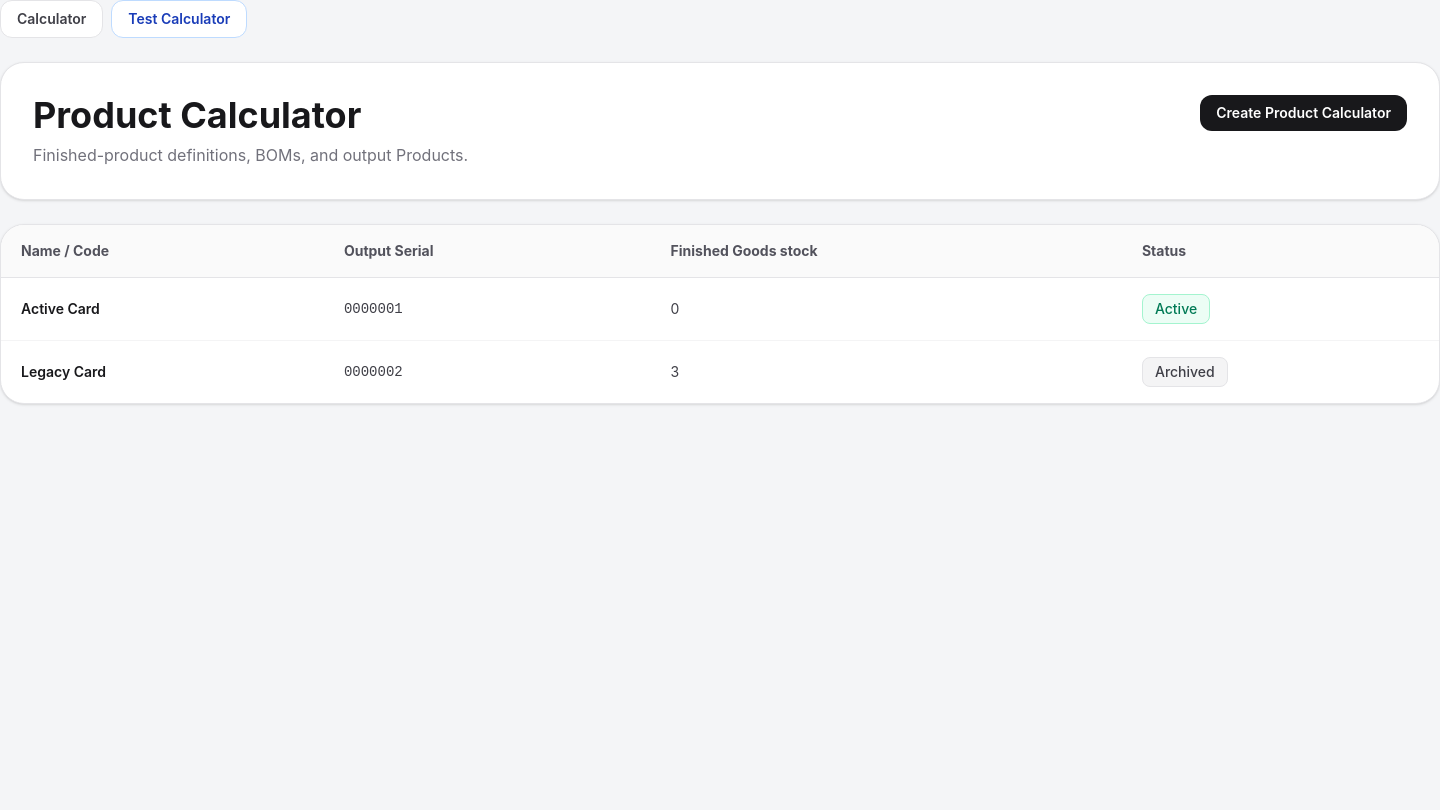
PCB list and creation › validates name and exact three-digit Serial, preserving leading zeroes
The width and height of the screenshot is (1440, 810).
Click the button "Create Product Calculator".
click(1304, 113)  # box [1200,95,1407,131]
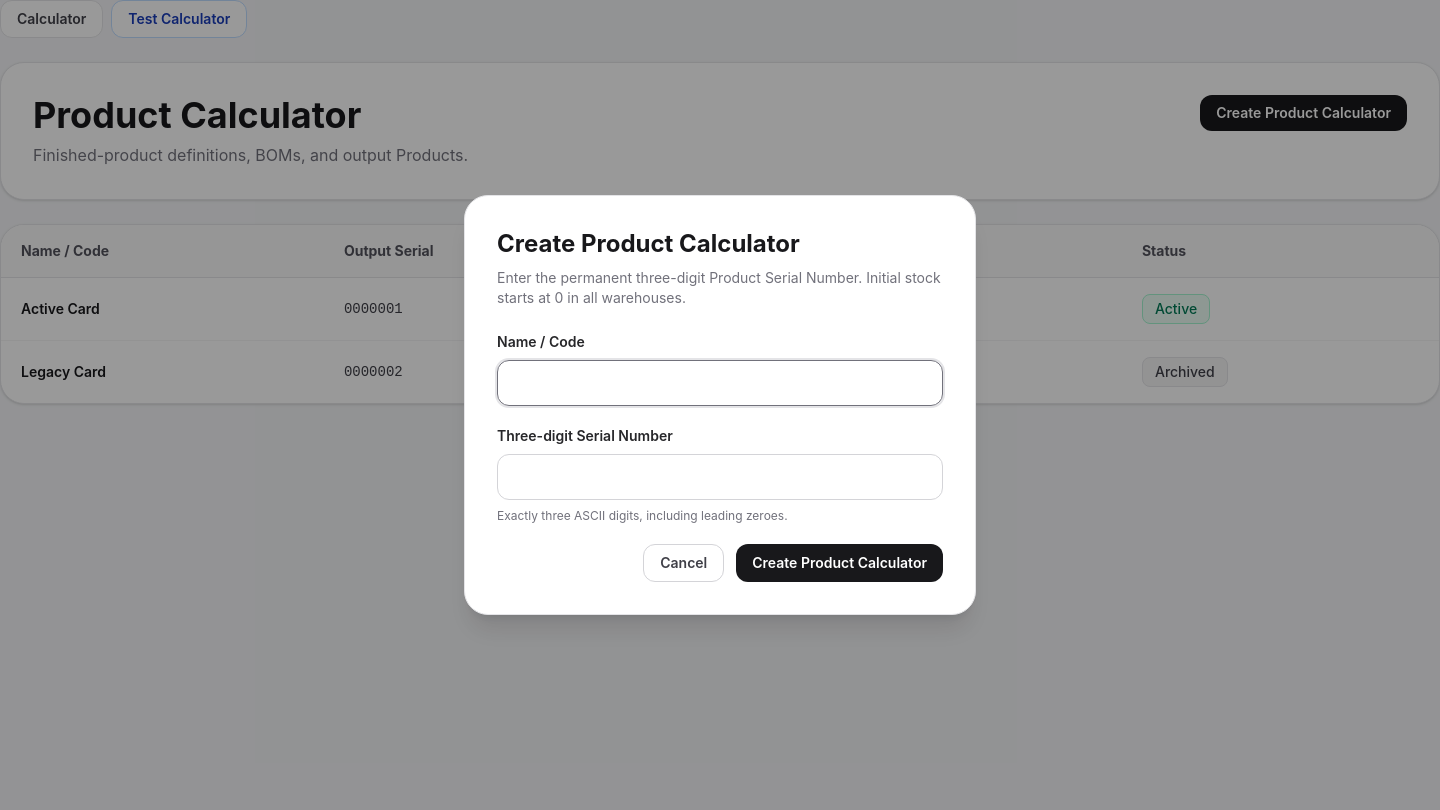
Expected: the number of fields is 2, [497,360,943,406]; [497,454,943,500]
Click the button "Create Product Calculator".
click(840, 563)  # box [736,544,943,582]
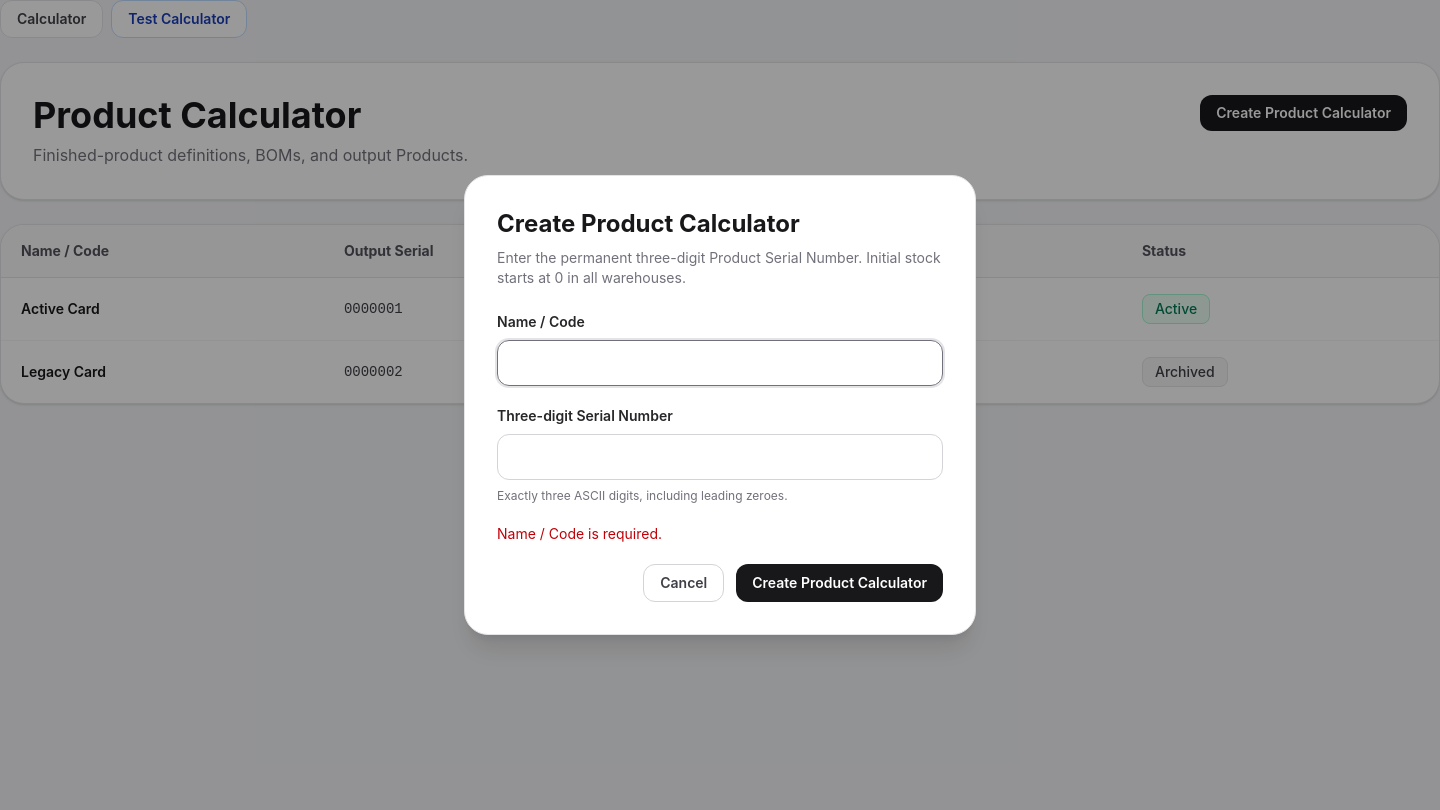
Expected: the message shows "required", [497,525,662,542]
Type "  Controller  " into the field labelled "Name / Code".
click(720, 363); type("  Controller  ")  # box [497,340,943,386]
Type "07" into the field labelled "Three-digit Serial Number".
click(720, 457); type("07")  # box [497,434,943,480]
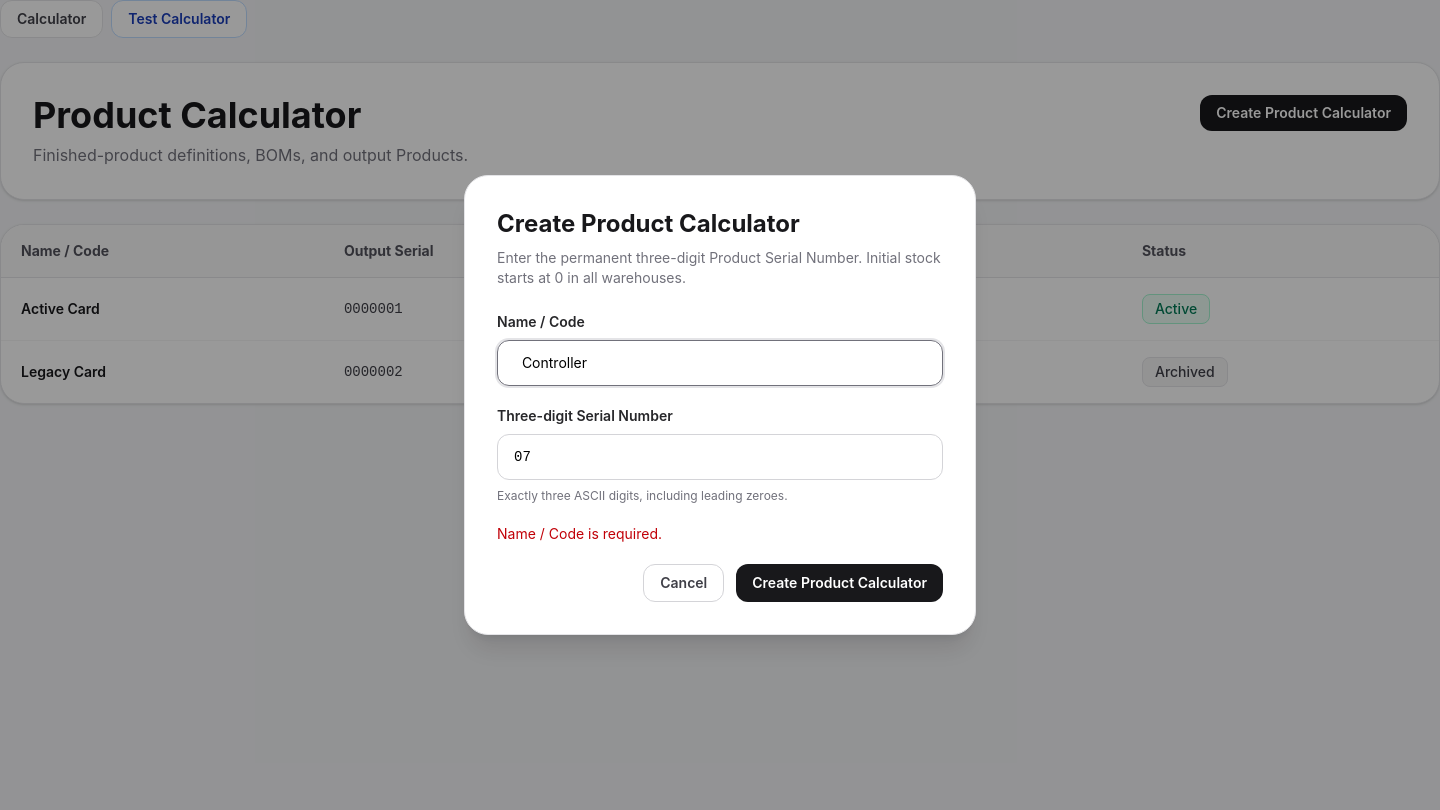
Click the button "Create Product Calculator".
click(840, 583)  # box [736,564,943,602]
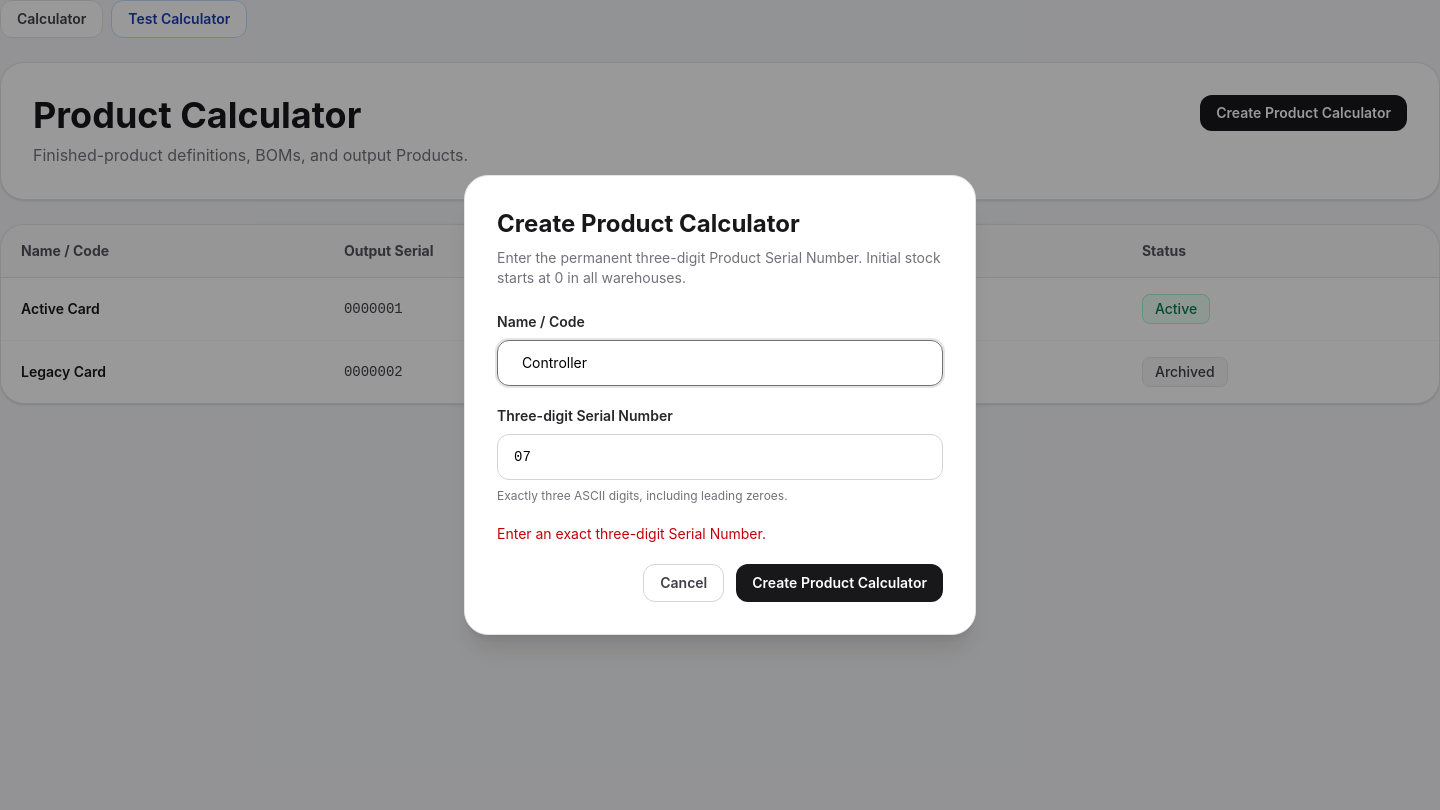
Expected: the message shows "exact three-digit", [497,525,766,542]
Replace the text in the field labelled "Three-digit Serial Number" with "007" at (720, 457), box [497,434,943,480]
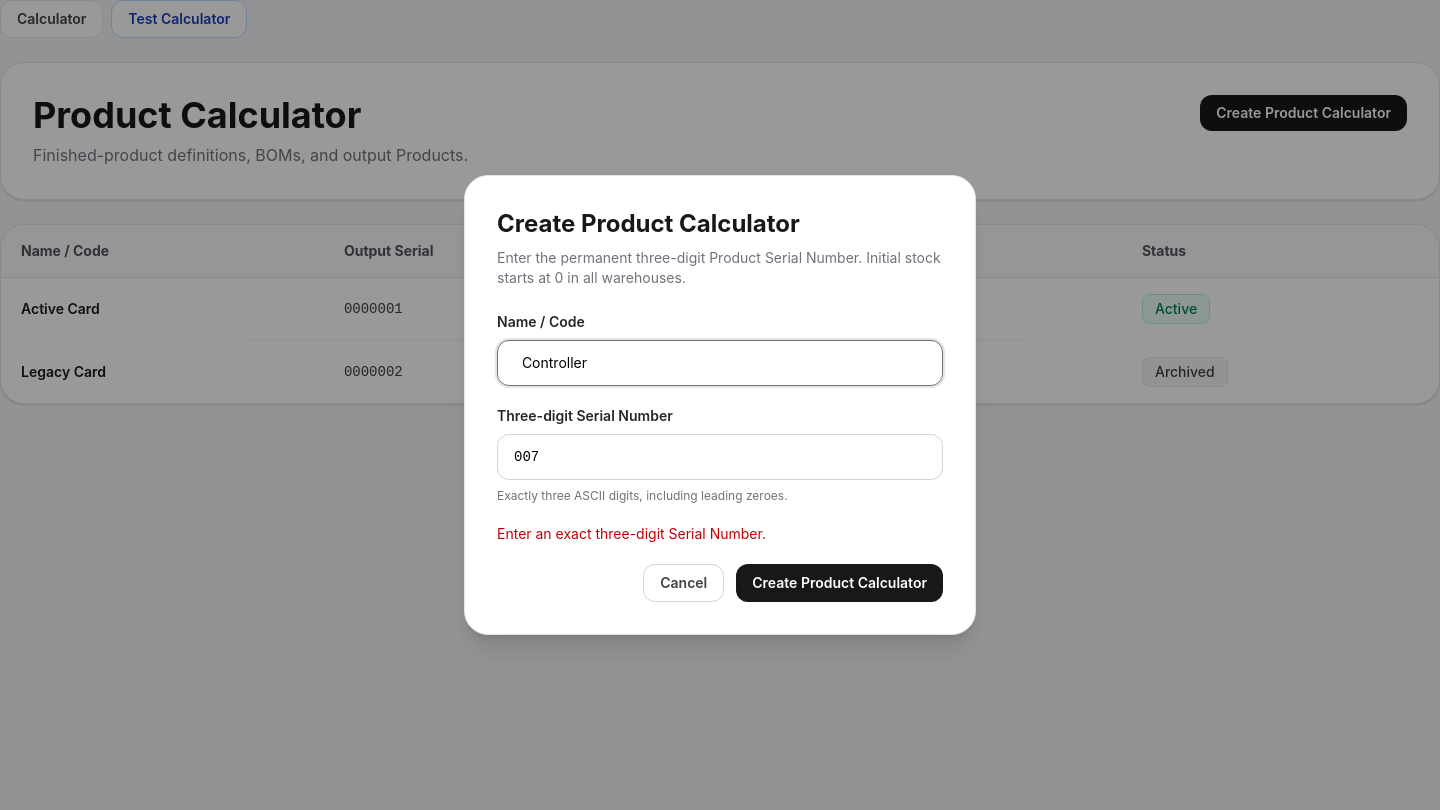
Click the button "Create Product Calculator".
click(840, 583)  # box [736,564,943,602]
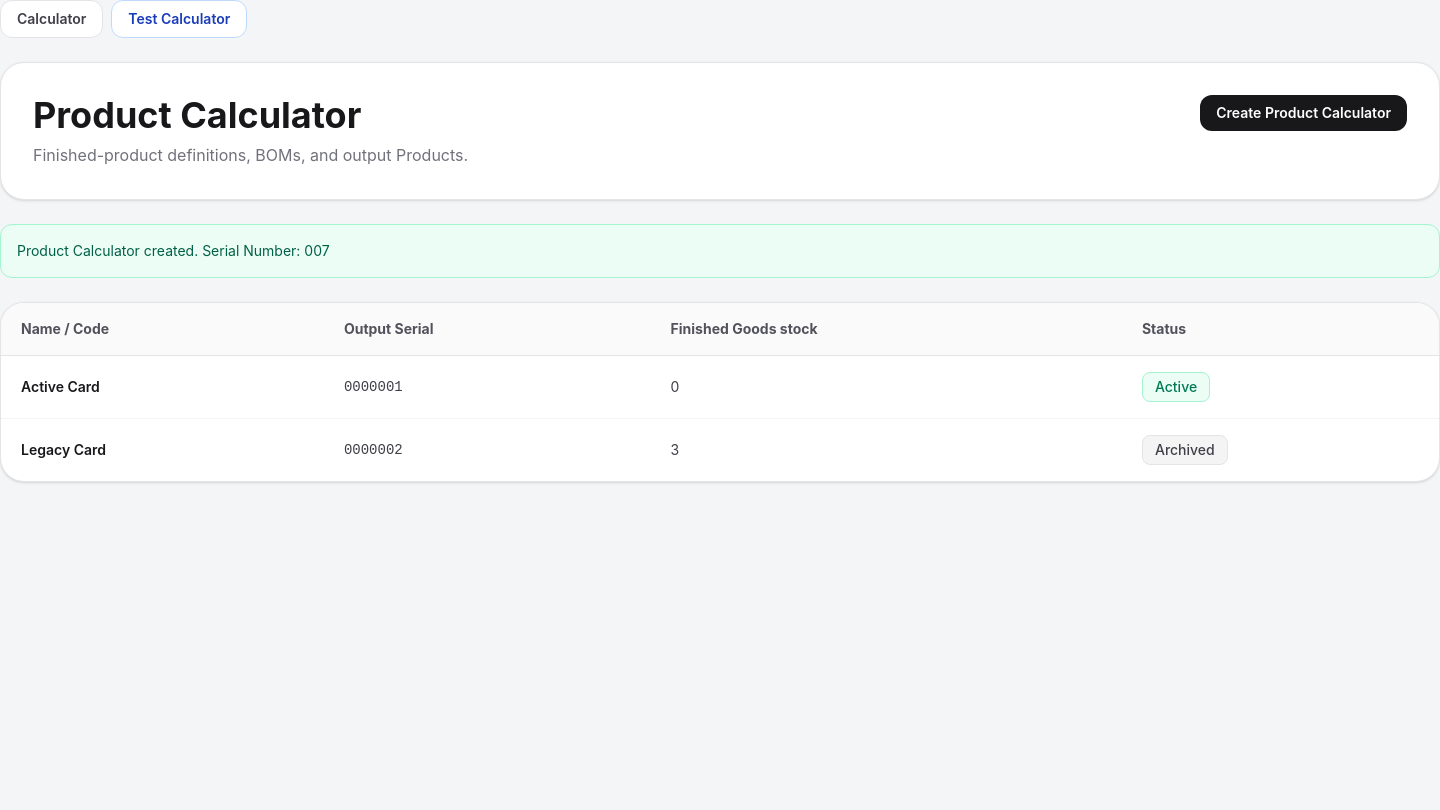
Expected: the dialog is gone
Expected: the message shows "007", [17,242,330,259]
